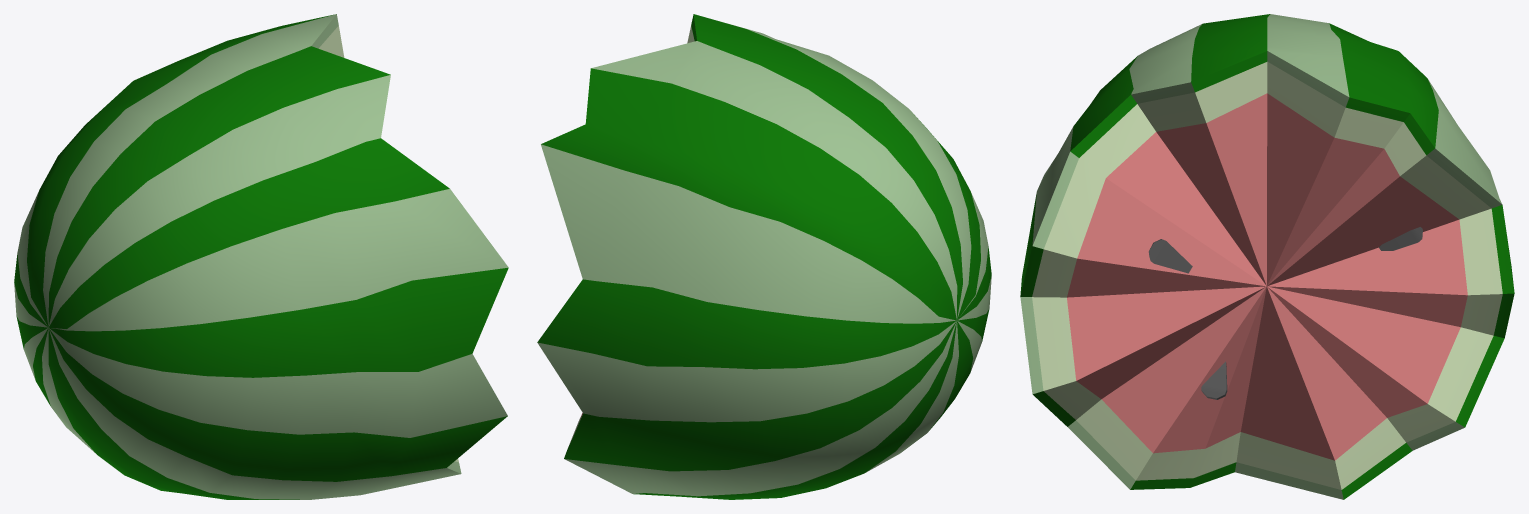
The model's file is L_Half.fbx.
3 views of the same model, side by side, from view 1: azimuth 30°, elevation 25°; view 2: azimuth 150°, elevation 25°; view 3: azimuth 270°, elevation 25° (orthographic).
Parts seen in each view (by area): view 1: L_Half; view 2: L_Half; view 3: L_Half.
Boxes of the visible parts, bbox=[...] form: L_Half: bbox=[14, 14, 508, 499]; L_Half: bbox=[537, 14, 991, 499]; L_Half: bbox=[1020, 14, 1514, 499].
Size of the model in its own units: 18.13 by 21.56 by 22.35.
